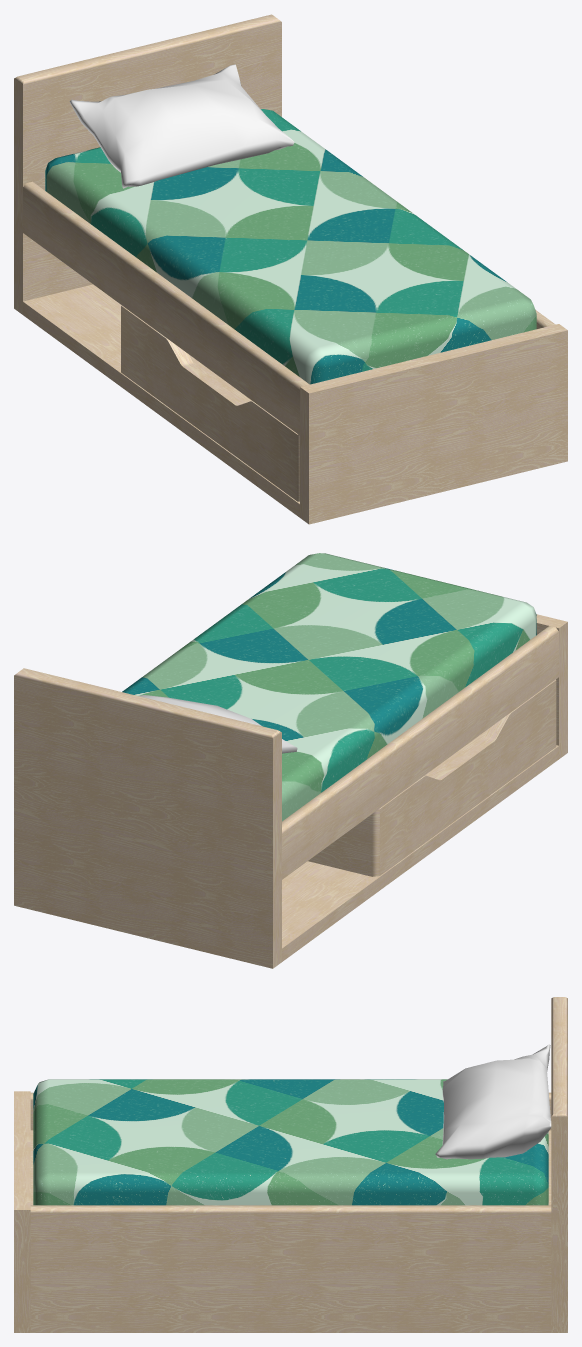
The model's file is bed_006.fbx.
3 renders of one model, top to bottom at view 1: azimuth 30°, elevation 25°; view 2: azimuth 150°, elevation 25°; view 3: azimuth 270°, elevation 25°, orthographic. The views are drawn at different scales.
Parts seen in each view (by area): view 1: bed_006; view 2: bed_006; view 3: bed_006.
Part boxes in pixels (bbox=[...]): bed_006: bbox=[14, 14, 567, 524]; bed_006: bbox=[14, 553, 567, 968]; bed_006: bbox=[14, 997, 567, 1332].
Size of the model in its own units: 125 by 247 by 107.
